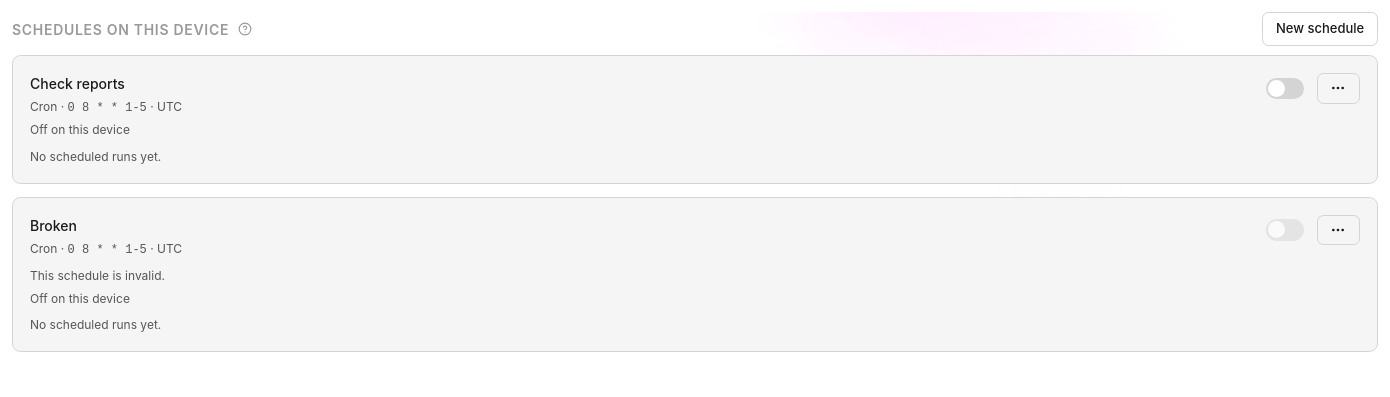
it: shows a refused enable in the card and cannot turn on a schedule with a problem
The image size is (1390, 397).
expect the element "Broken" shows "This schedule is invalid.": met, box [30,268,165,283]
Click the switch named "Run “Check reports” on this device": (1285, 88) [1266,78,1304,99]
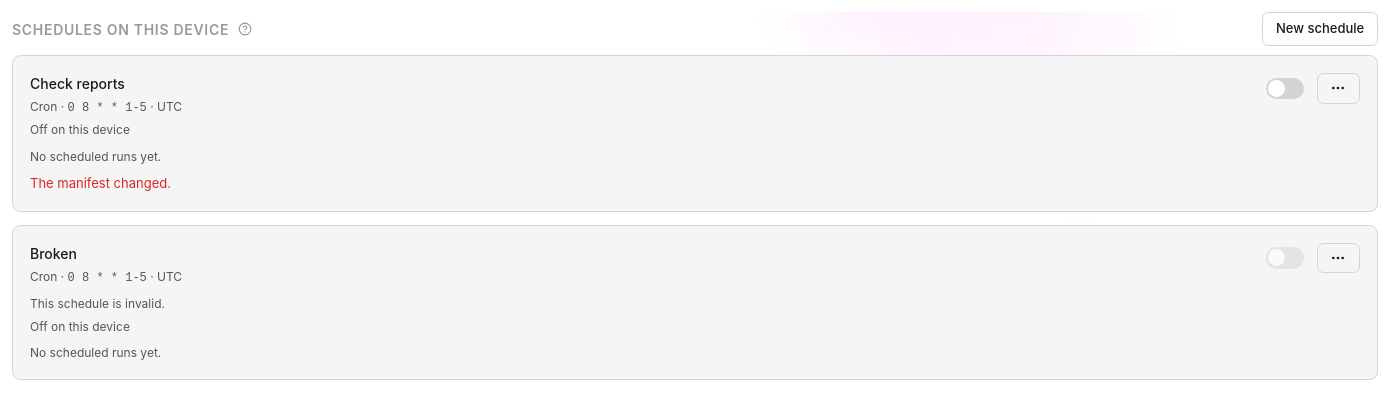
expect the message reads "The manifest changed.": met, box [30,175,171,191]
